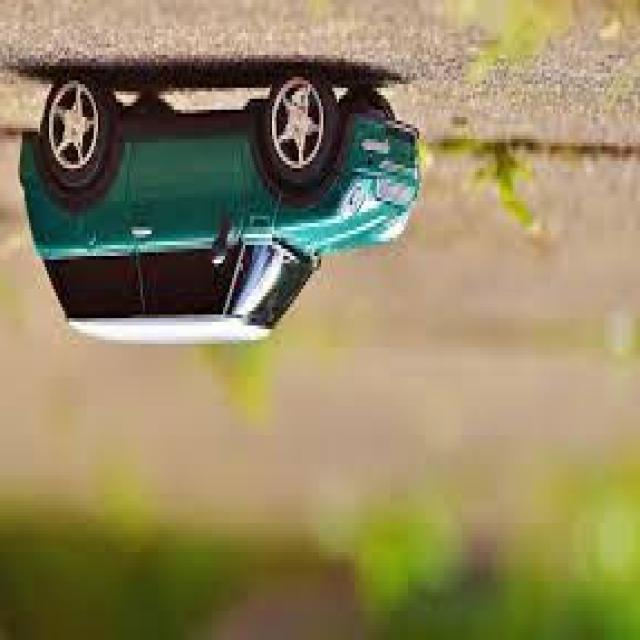Car: (20, 66, 424, 347)
